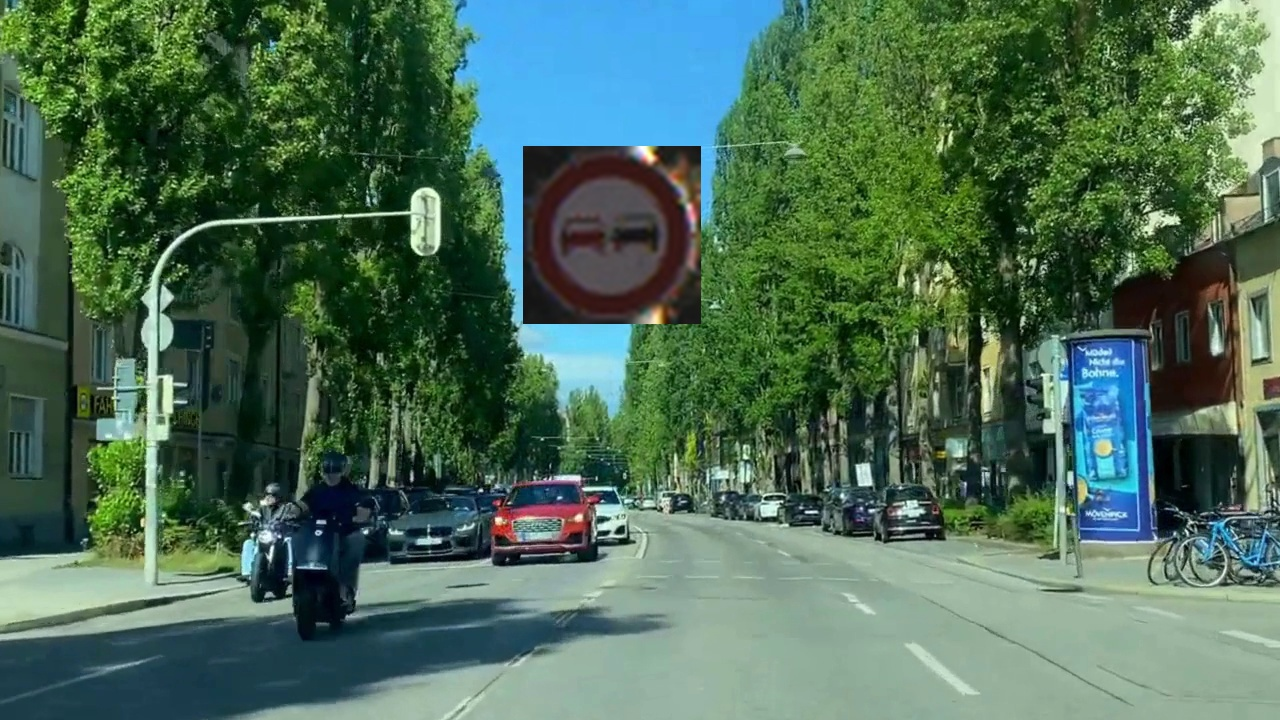No passing: (523, 146, 701, 324)
